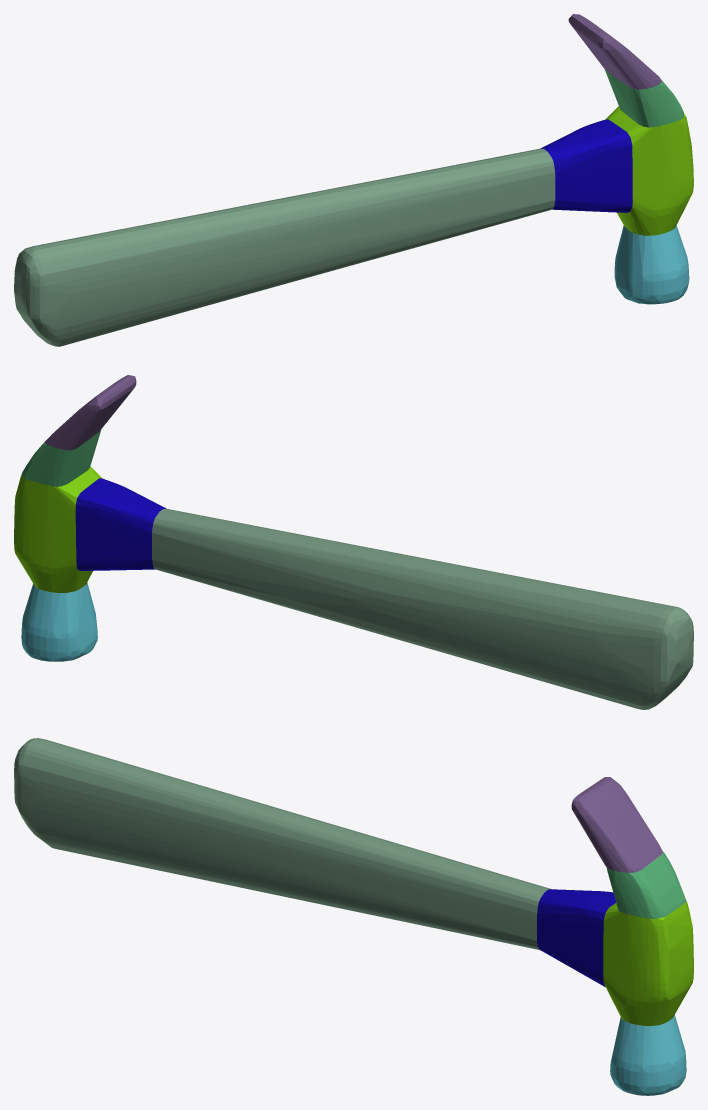
File: coacd_collision.obj
The picture shows the model from 3 angles, top to bottom: view 1: azimuth 30°, elevation 25°; view 2: azimuth 150°, elevation 25°; view 3: azimuth 330°, elevation 25°; orthographic projection.
Parts seen in each view (by area): view 1: geometry_0, geometry_4, geometry_5, geometry_2, geometry_1, geometry_3; view 2: geometry_0, geometry_4, geometry_5, geometry_2, geometry_1, geometry_3; view 3: geometry_0, geometry_4, geometry_5, geometry_1, geometry_2, geometry_3.
Boxes of the visible parts, <box> form: geometry_0: <box>14,148,555,346</box>; geometry_4: <box>605,106,693,235</box>; geometry_5: <box>540,119,632,212</box>; geometry_2: <box>614,225,689,304</box>; geometry_1: <box>568,14,661,89</box>; geometry_3: <box>605,70,683,127</box>; geometry_0: <box>152,509,693,709</box>; geometry_4: <box>14,466,102,592</box>; geometry_5: <box>75,478,166,570</box>; geometry_2: <box>21,582,97,661</box>; geometry_1: <box>45,375,136,450</box>; geometry_3: <box>21,429,101,486</box>; geometry_0: <box>14,738,551,949</box>; geometry_4: <box>603,901,693,1025</box>; geometry_5: <box>537,889,615,987</box>; geometry_1: <box>571,777,662,872</box>; geometry_2: <box>610,1015,686,1095</box>; geometry_3: <box>606,852,686,918</box>.
Bounding box in the file's own units: 336 × 136 × 35.67.
